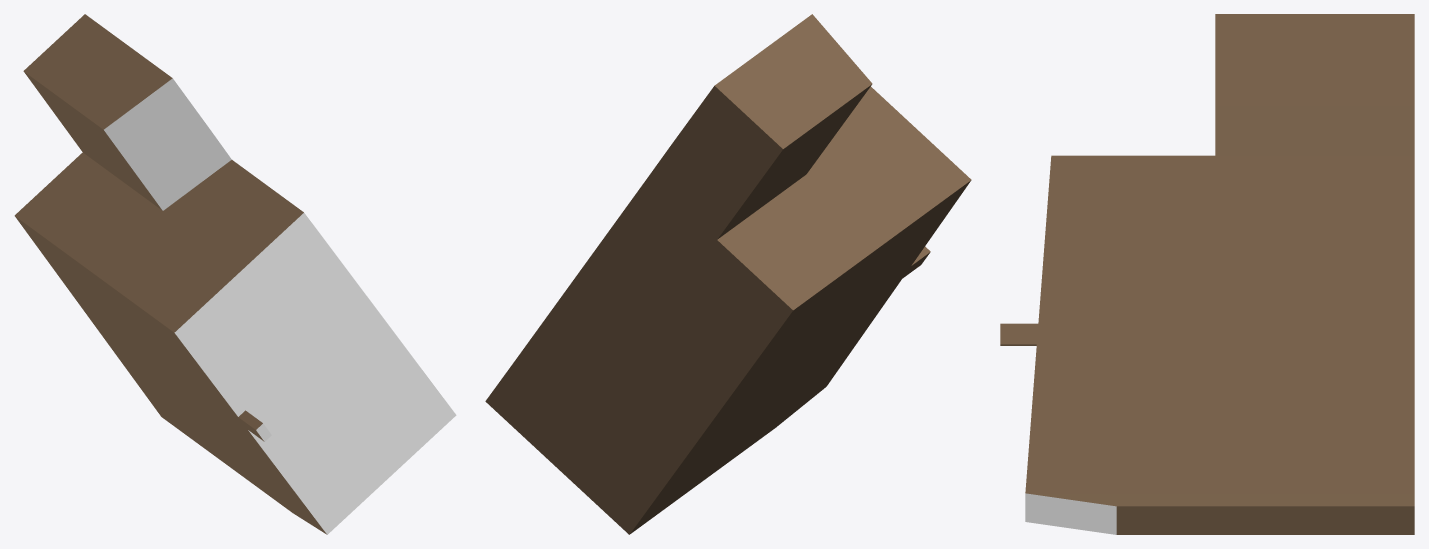
The picture shows the model from 3 angles, left to right: view 1: azimuth 30°, elevation 25°; view 2: azimuth 150°, elevation 25°; view 3: azimuth 270°, elevation 25°; orthographic projection. The views are drawn at different scales.
Visible parts, largest first — view 1: City_PC-08678; view 2: City_PC-08678; view 3: City_PC-08678.
Boxes of the visible parts, bbox=[...] form: City_PC-08678: bbox=[14, 14, 456, 534]; City_PC-08678: bbox=[485, 14, 971, 534]; City_PC-08678: bbox=[1000, 14, 1414, 534].
Bounding box in the file's own units: 1301 × 1899 × 1490.
